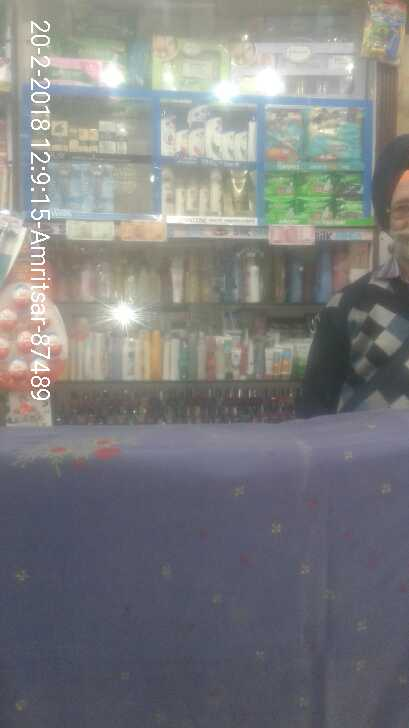venus: (81, 164, 113, 212), (51, 163, 81, 212)
